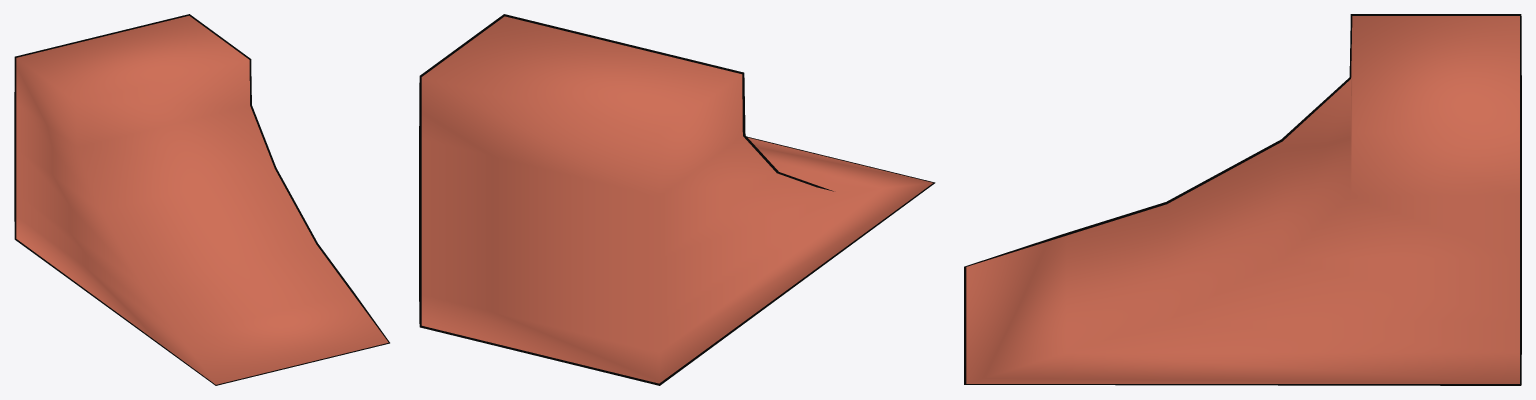
Rendered from ramp_godot.glb.
3 renders of one model, left to right at view 1: azimuth 30°, elevation 25°; view 2: azimuth 150°, elevation 25°; view 3: azimuth 270°, elevation 25°, orthographic. The views are drawn at different scales.
Visible parts, largest first — view 1: Cube; view 2: Cube; view 3: Cube.
Part boxes in pixels (left/top/right/bottom): Cube: left=14, top=14, right=389, bottom=385; Cube: left=419, top=14, right=935, bottom=385; Cube: left=964, top=14, right=1521, bottom=385.
Size of what is drawn, in the model's own units: 2.03 by 2.02 by 4.03.
Materials: 2 (1 with a texture image).
